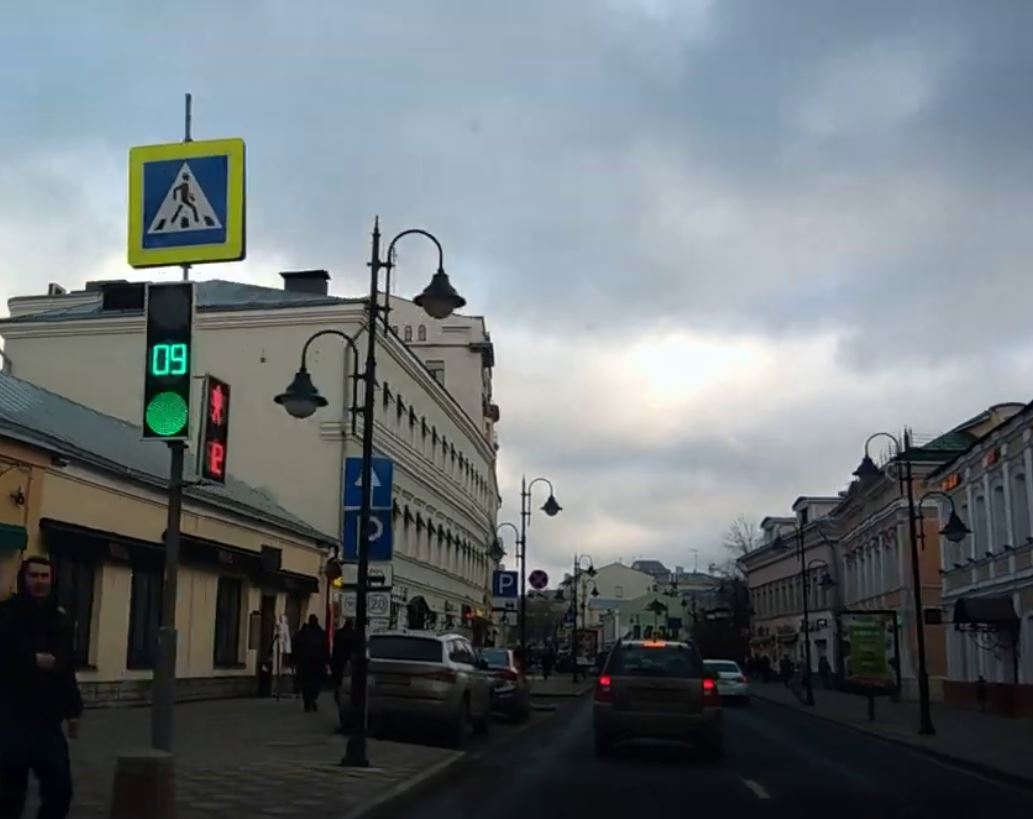Yaya Gecidi: (137, 140, 229, 242)
